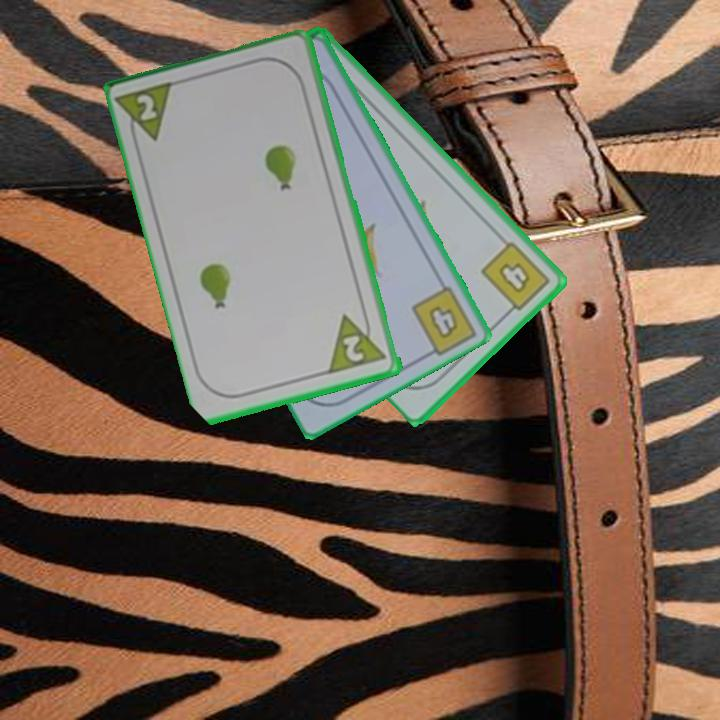2p: (326, 307, 390, 377), (133, 90, 161, 125)
4b: (478, 237, 553, 320), (425, 302, 462, 343)
